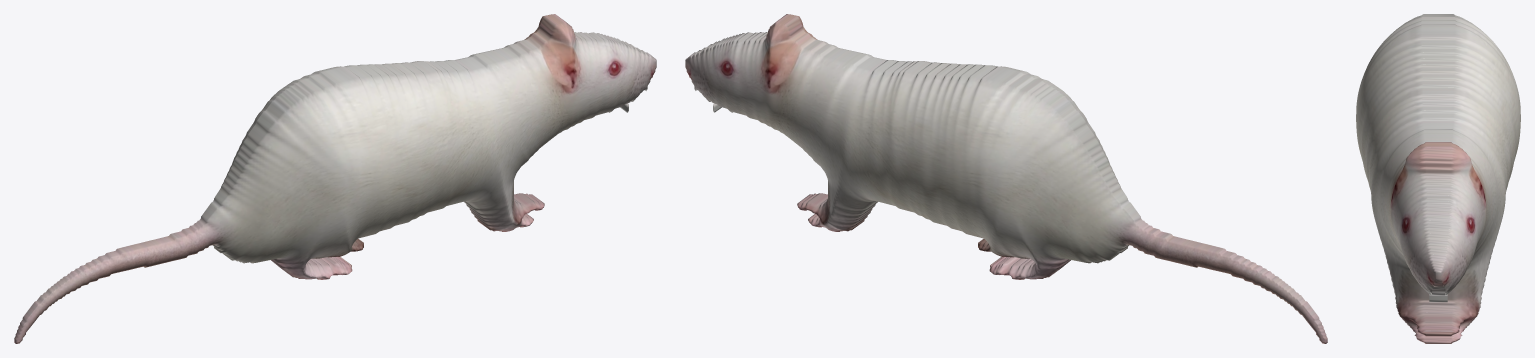
The model's file is albino-rat.glb.
3 views of the same model, side by side, from view 1: azimuth 30°, elevation 25°; view 2: azimuth 150°, elevation 25°; view 3: azimuth 270°, elevation 25° (orthographic). The views are drawn at different scales.
Parts seen in each view (by area): view 1: Rat; view 2: Rat; view 3: Rat.
Boxes of the visible parts, left/top/right/bottom form: Rat: left=14, top=14, right=656, bottom=343; Rat: left=685, top=14, right=1327, bottom=343; Rat: left=1356, top=14, right=1520, bottom=343.
Bounding box in the file's own units: 0.304 × 0.0887 × 0.0605.
Materials: 1 (1 with a texture image).
